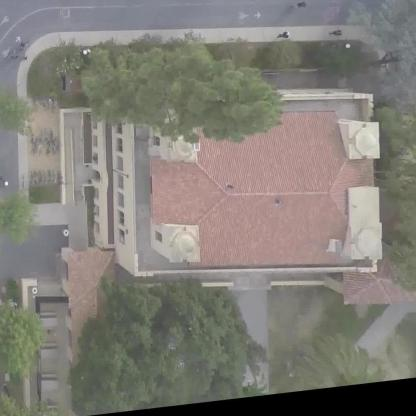Bicyclist: (292, 0, 314, 11)
Pedestrian: (275, 28, 290, 44), (329, 28, 346, 38), (5, 53, 20, 64), (16, 38, 29, 50), (23, 55, 33, 65)
